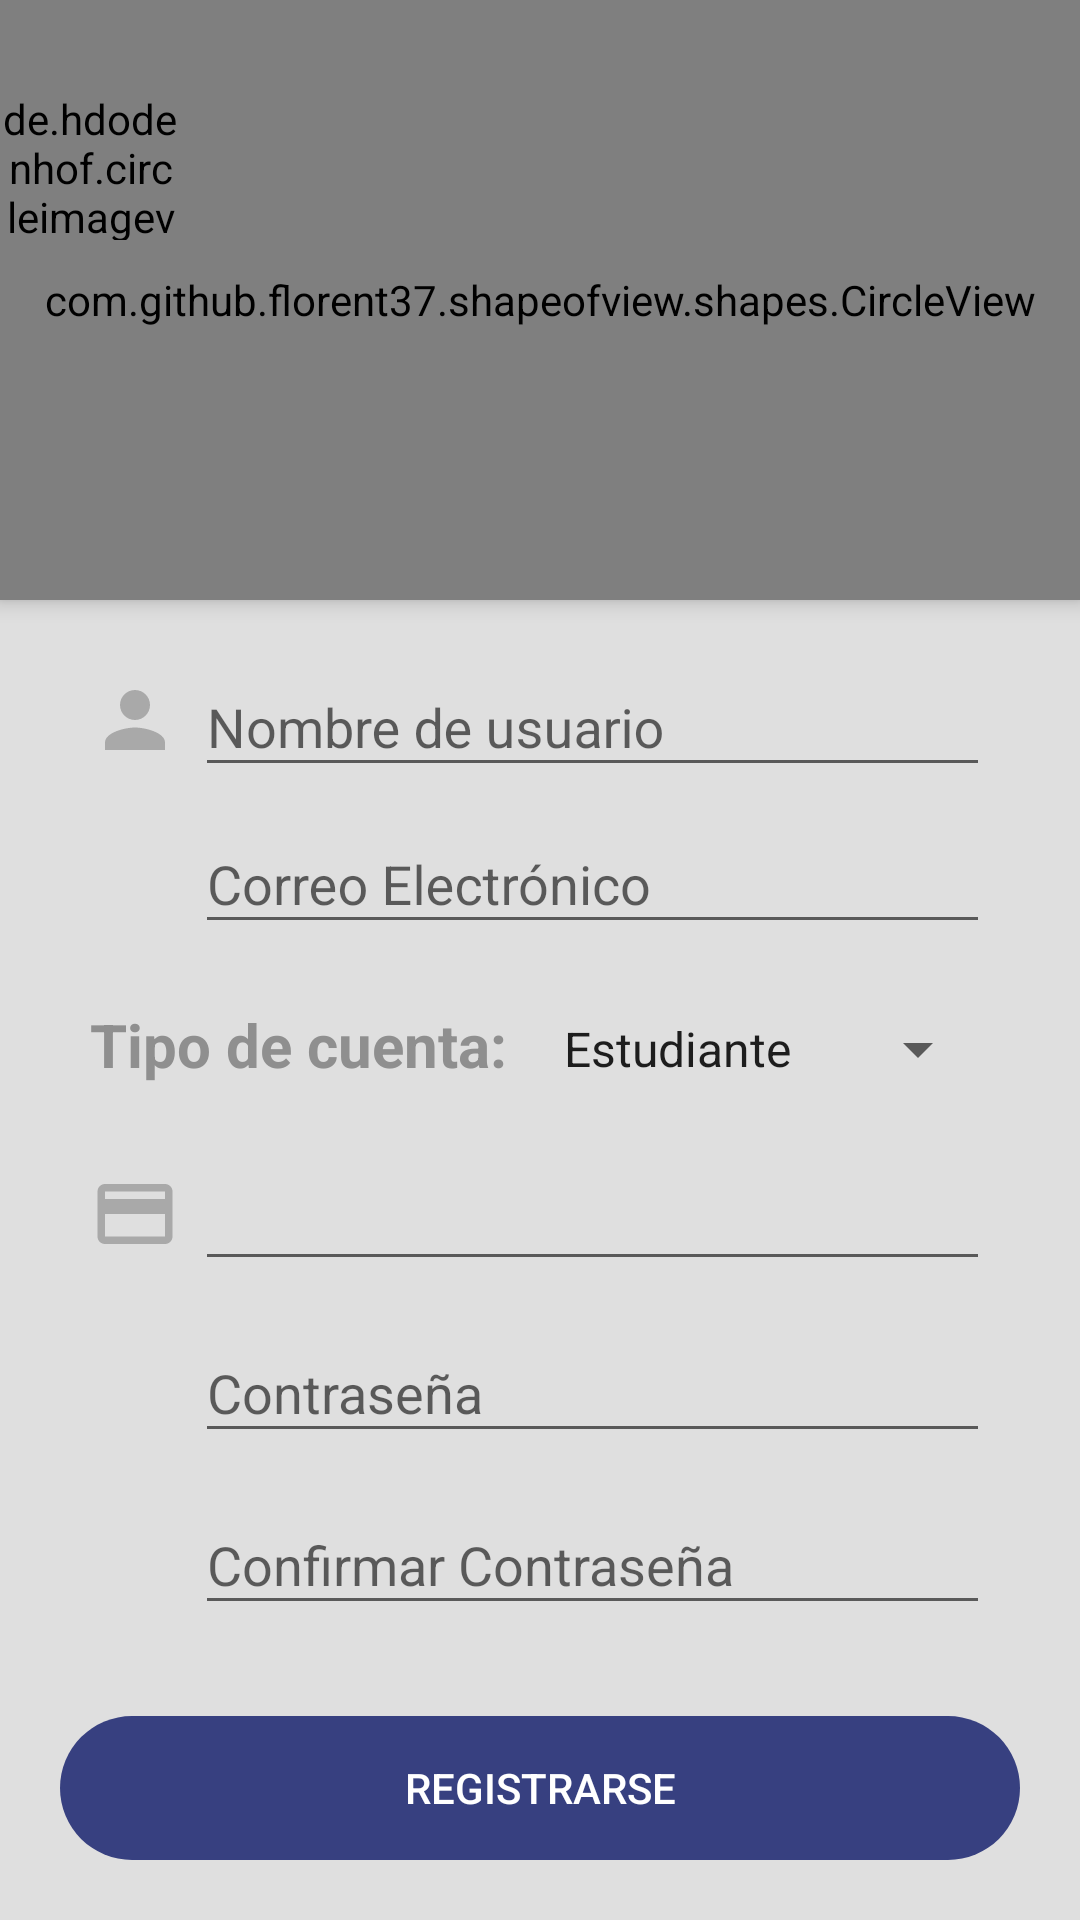

Icon click points for this 1080 × 1920 phone screenshot, format (x,y):
credit card: (135,1214)
person: (135,720)
